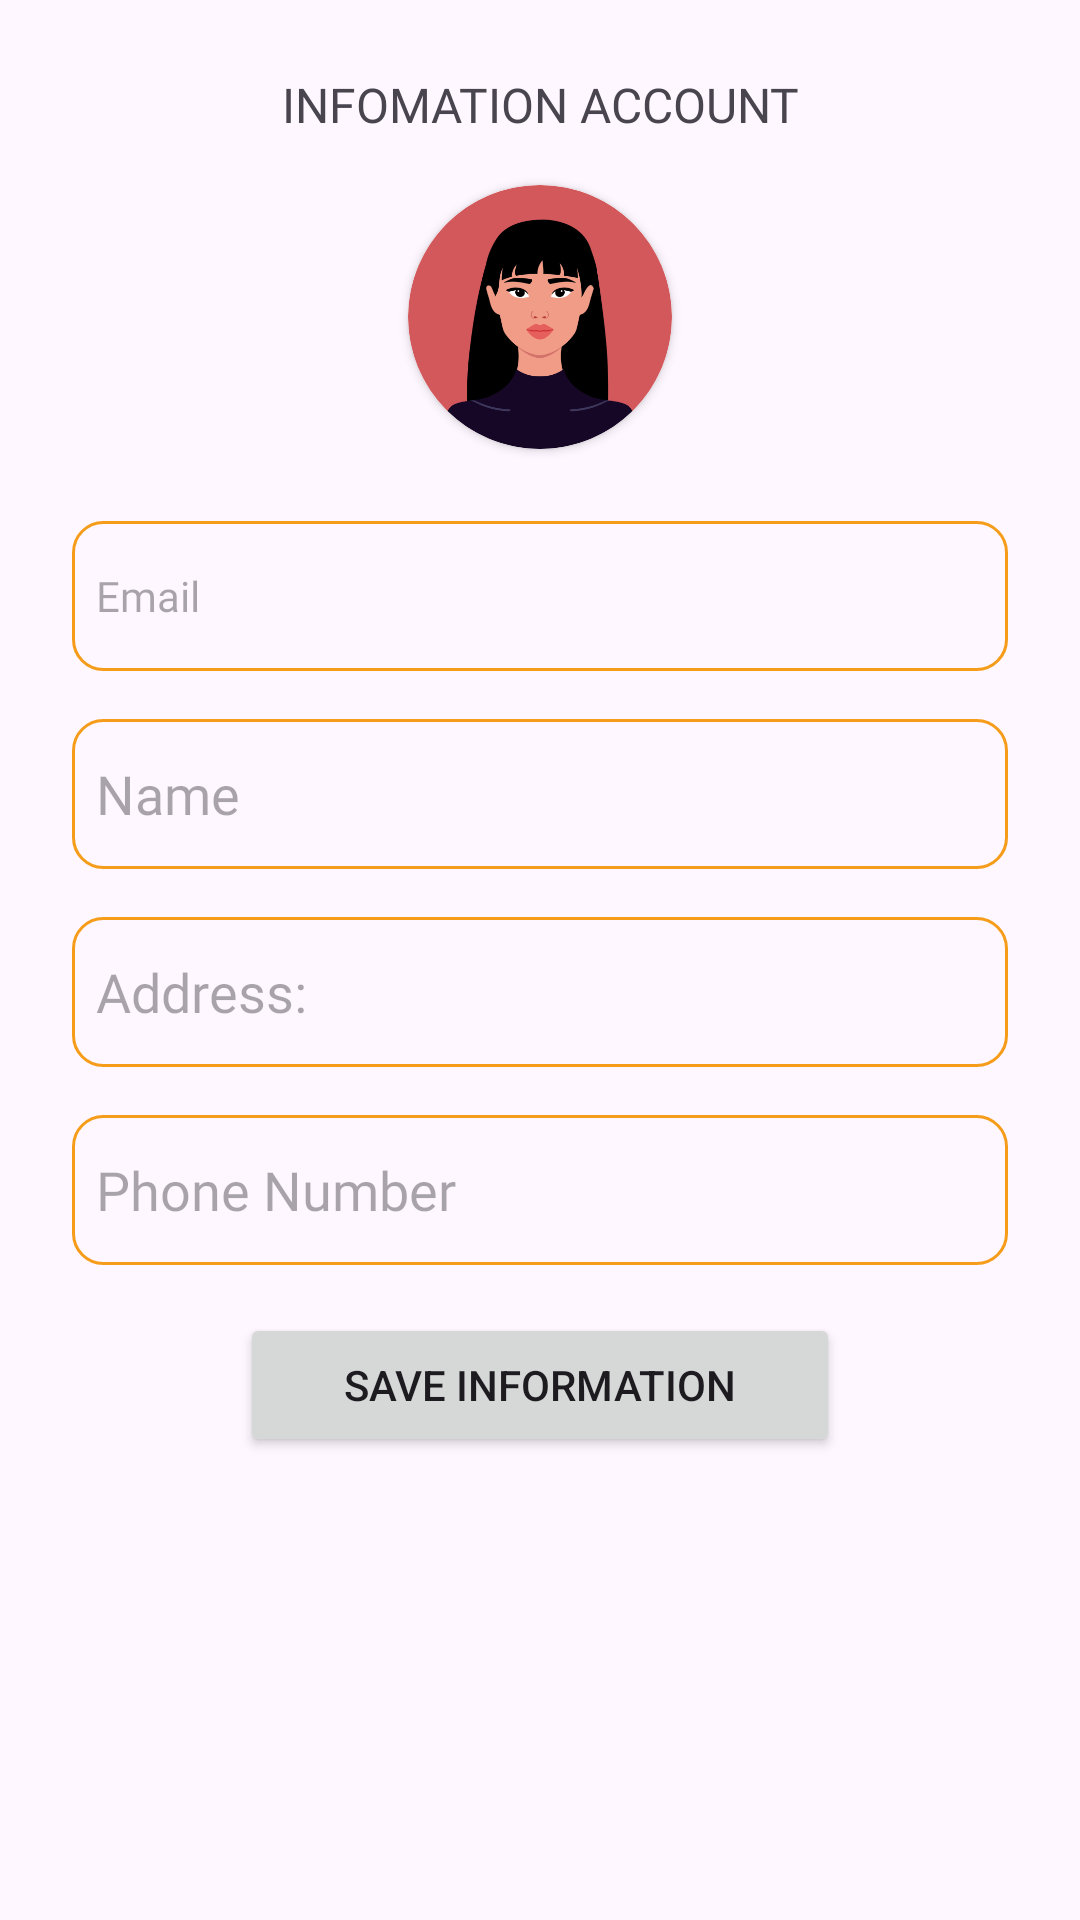

Icon bounding boxes for this 1080w x 1920h phone screenshot, format {"x1": x1, "y1": y1, "x2": x2, "y2": y2}:
avt: {"x1": 408, "y1": 185, "x2": 672, "y2": 449}
